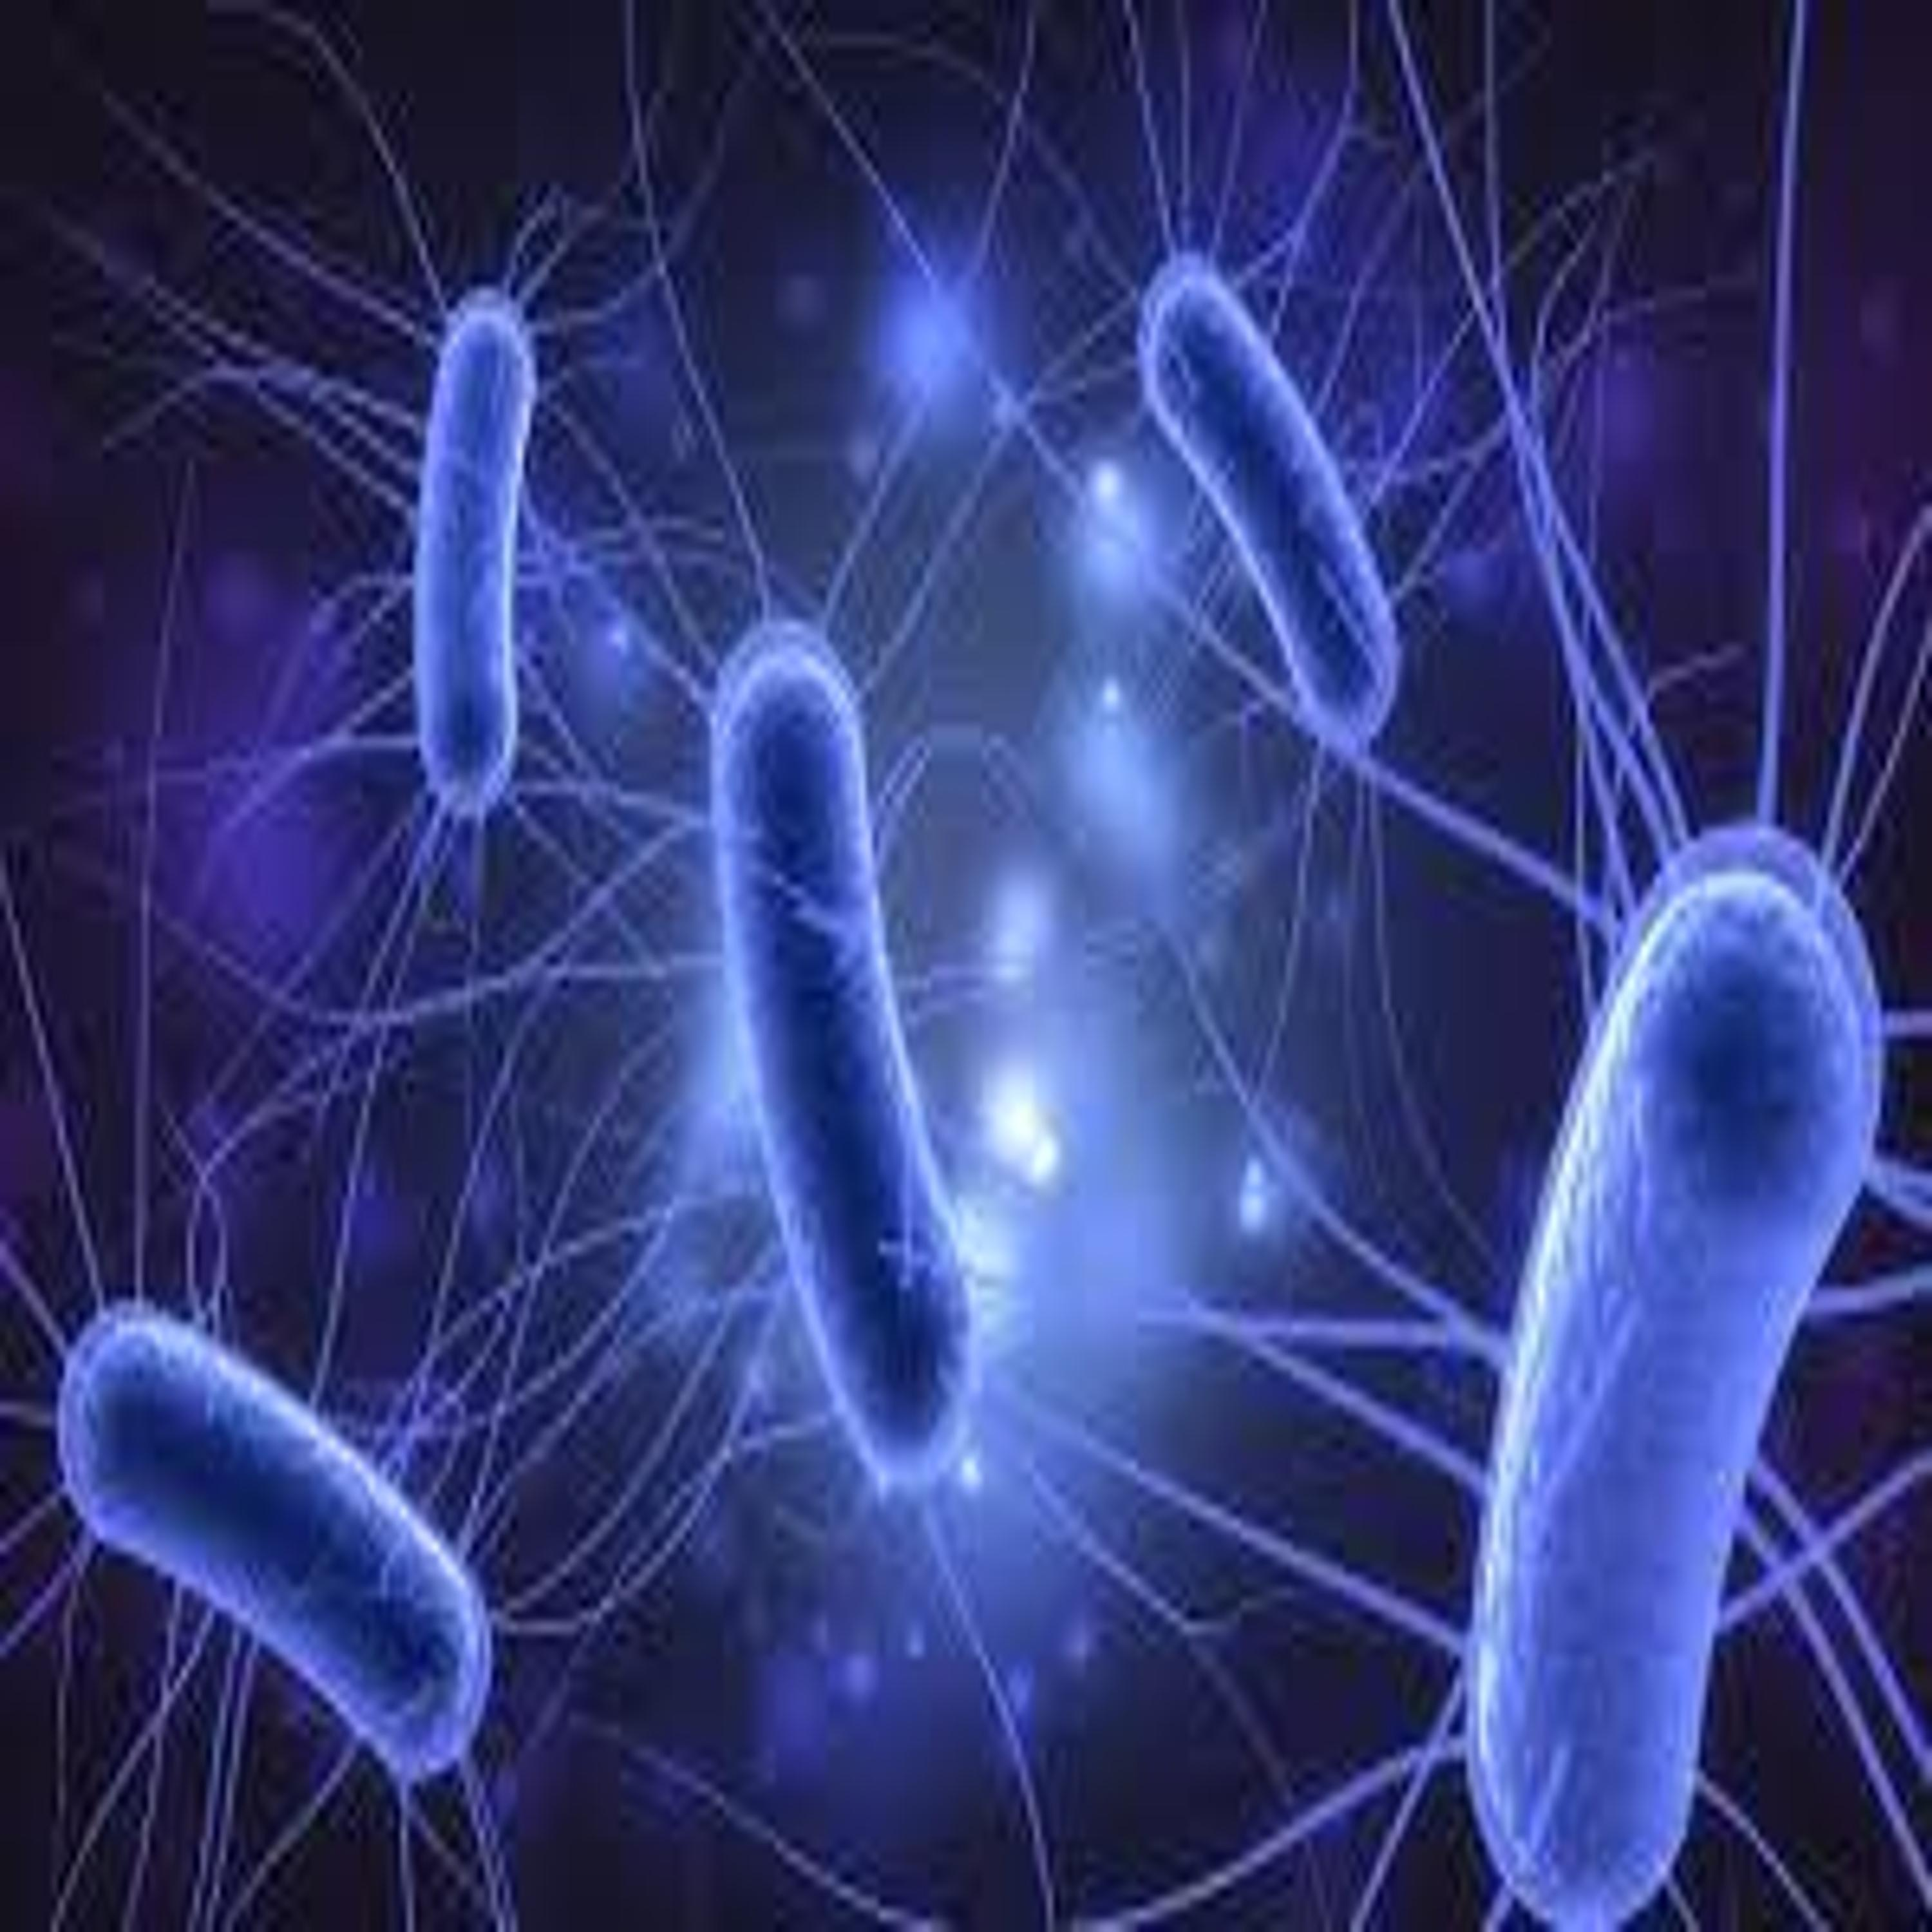e.coli5: (1327, 495, 1923, 1932), (557, 495, 1219, 1720), (0, 959, 761, 1918), (184, 57, 727, 931), (993, 133, 1529, 839)
